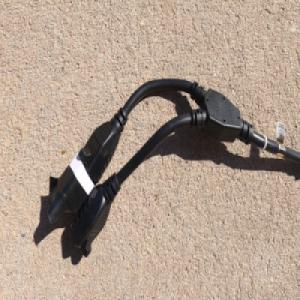Wire: (44, 76, 300, 260)
